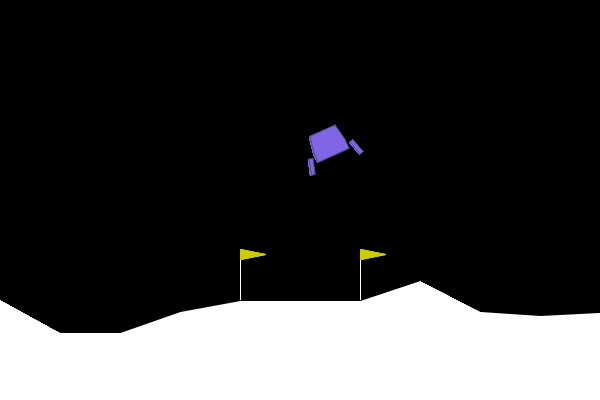lander: (294, 117, 365, 178)
